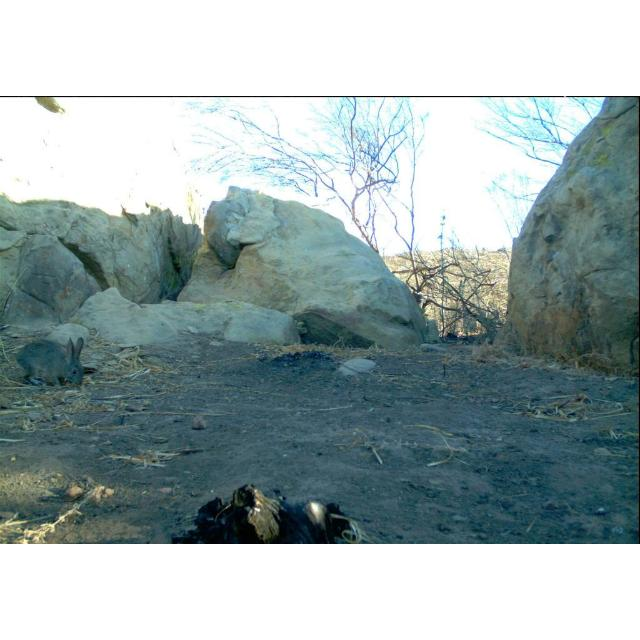animals: (17, 337, 88, 389)
